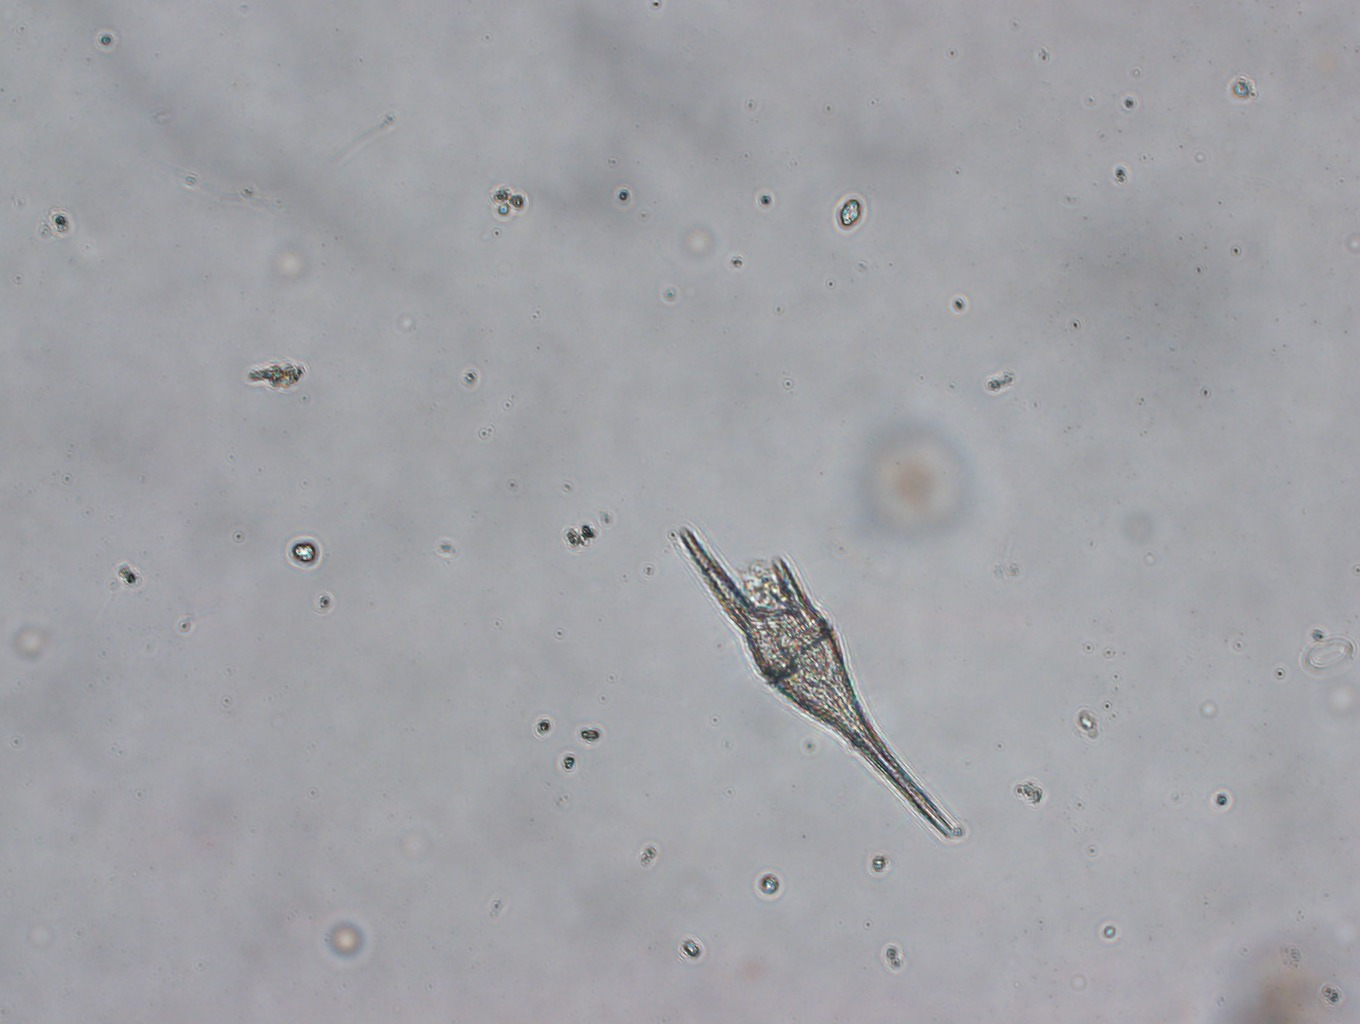ceratium furca: (676, 523, 960, 842)
